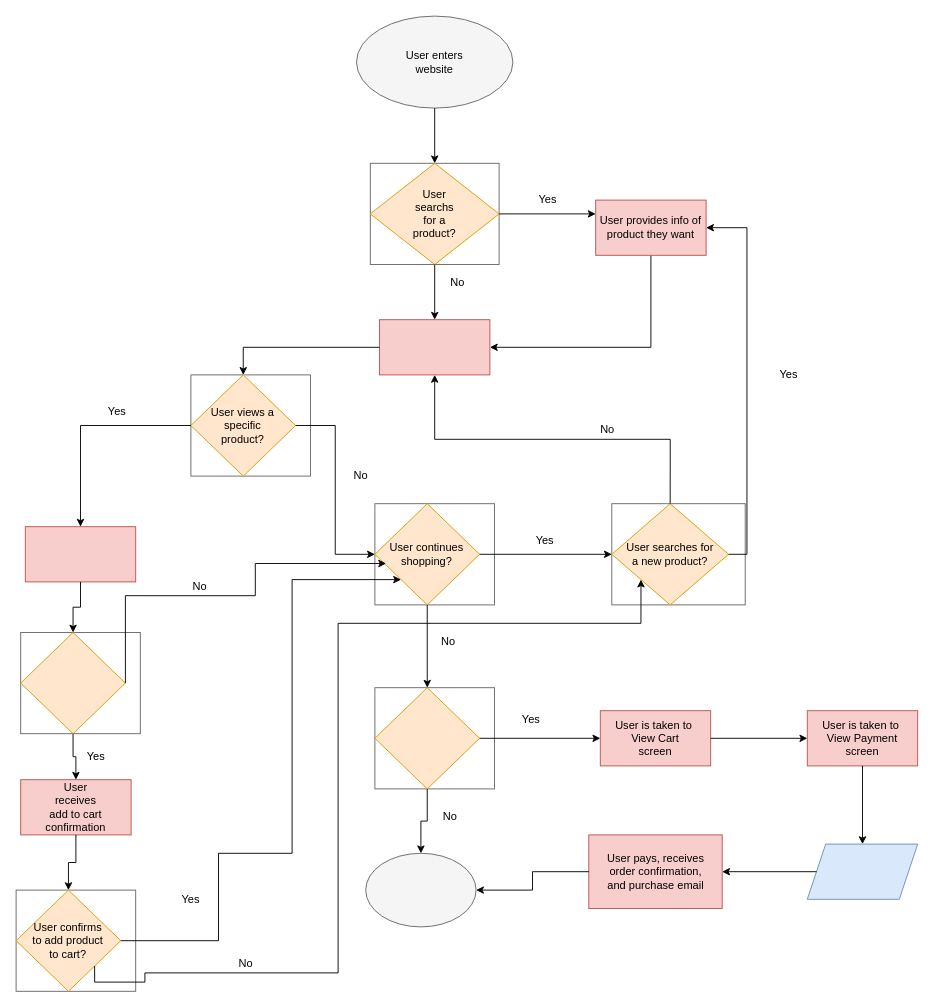
Some shapes in this 934 by 1007 pixel diagram are drawn without their labels. Each missing label, with the box of its shape:
U User leaves website: (365, 852, 476, 927)
User browses through products: (379, 319, 490, 375)
User clicks add product to cart?: (20, 632, 125, 734)
User inputs payment info: (806, 843, 918, 899)
User views product's webpage: (24, 526, 136, 582)
User wants to checkout?: (374, 687, 480, 789)
